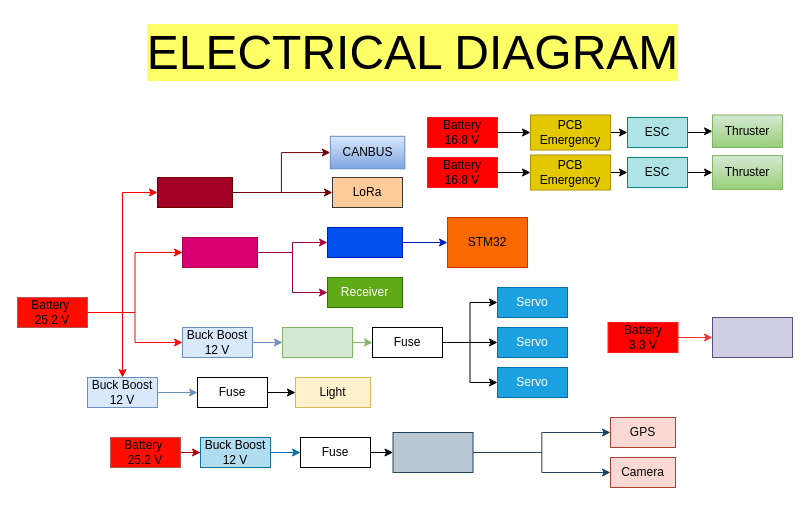
Some shapes in this 810 by 505 pixel diagram are drawn without their labels. Here are the shapes that lost their labels. From the top down, the centre of each, then its label:
At (x=194, y=192): "3.3V".
At (x=220, y=252): "5V".
At (x=364, y=242): "Voltage Logic Switch".
At (x=317, y=342): "UBEC 7.4 V".
At (x=752, y=337): "Transmitter".
At (x=432, y=452): "Mini PC".
